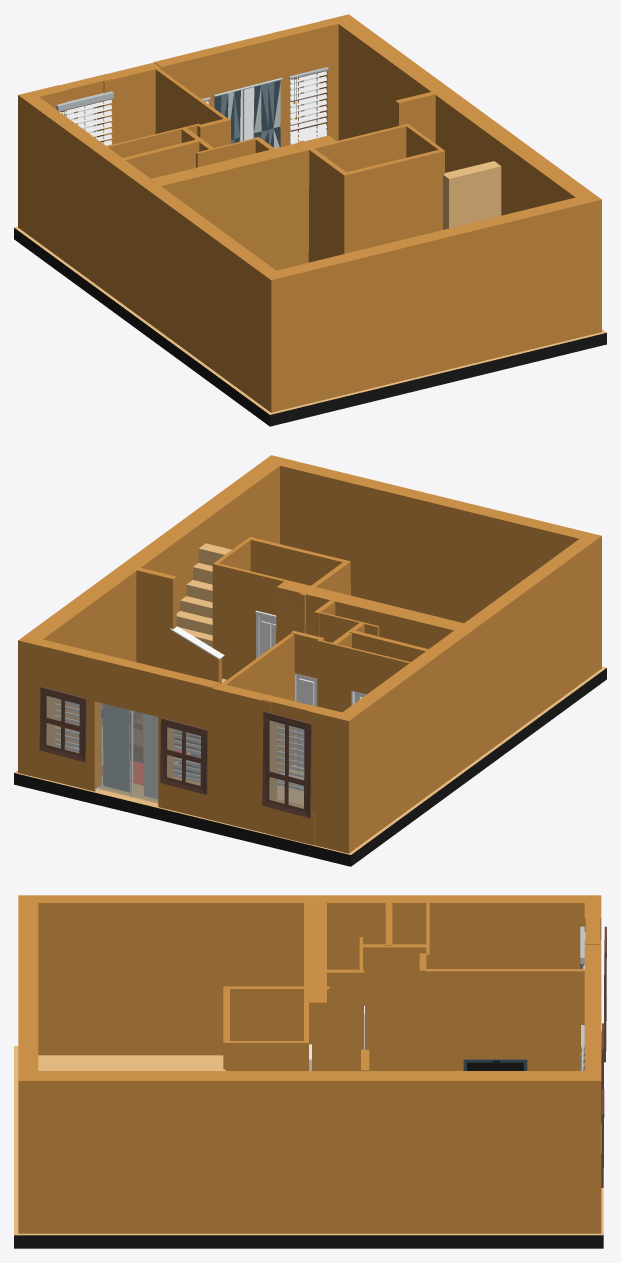
File: lux-b.glb
3 renders of one model, top to bottom at view 1: azimuth 30°, elevation 25°; view 2: azimuth 150°, elevation 25°; view 3: azimuth 270°, elevation 25°, orthographic. The views are drawn at different scales.
Visible parts, largest first — view 1: group530085485; view 2: group530085485; view 3: group530085485.
Part boxes in pixels (x1=…): group530085485: x1=14, y1=14, x2=606, y2=426; group530085485: x1=14, y1=455, x2=606, y2=866; group530085485: x1=14, y1=895, x2=606, y2=1248.
Bounding box in the file's own units: 7.13 × 2.93 × 9.43.
